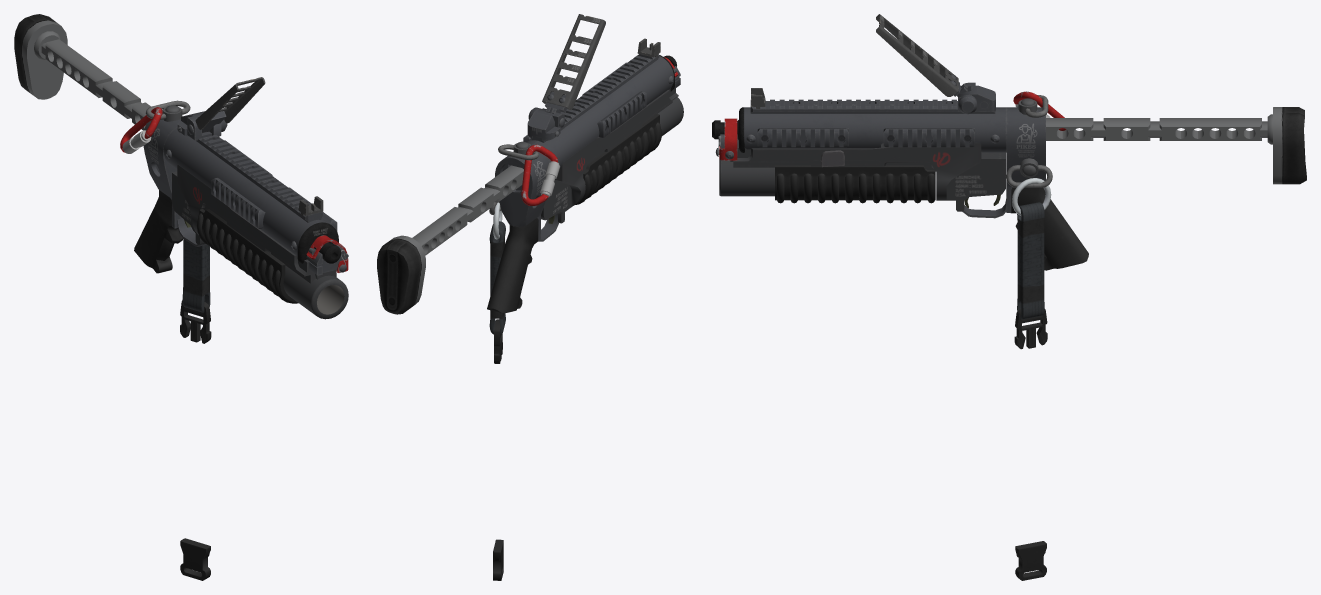
File: launcher.glb
3 renders of one model, left to right at view 1: azimuth 30°, elevation 25°; view 2: azimuth 150°, elevation 25°; view 3: azimuth 270°, elevation 25°, orthographic. The views are drawn at different scales.
Parts seen in each view (by area): view 1: m203_body_low_5, buckle_socket_low_6; view 2: m203_body_low_5, buckle_socket_low_6; view 3: m203_body_low_5, buckle_socket_low_6.
Boxes of the visible parts, x1,y1,x2,y2 form: m203_body_low_5: [14, 14, 348, 343]; buckle_socket_low_6: [180, 538, 210, 580]; m203_body_low_5: [377, 14, 683, 363]; buckle_socket_low_6: [493, 539, 503, 580]; m203_body_low_5: [712, 14, 1306, 349]; buckle_socket_low_6: [1015, 541, 1046, 580].
Bounding box in the file's own units: 0.1776 × 1.24 × 1.23.
Materials: 1 (1 with a texture image).
